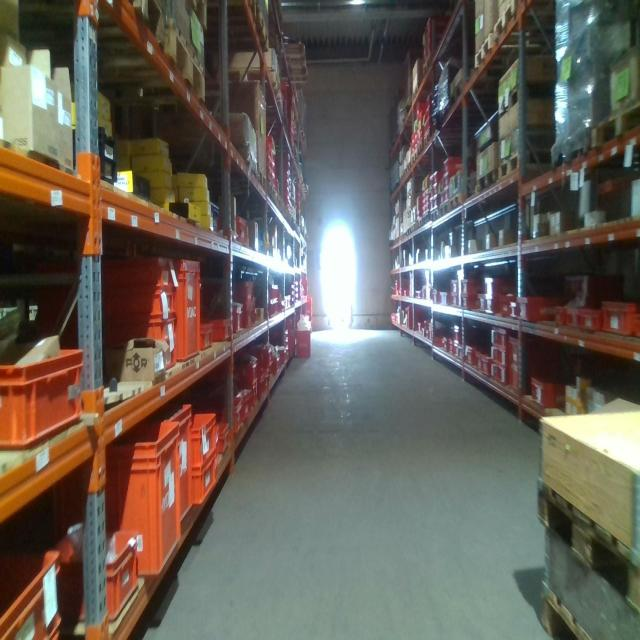pallet: (26, 22, 208, 110), (538, 477, 639, 617), (6, 3, 165, 49), (537, 576, 595, 638), (495, 78, 562, 120), (590, 96, 638, 151), (211, 14, 271, 54), (500, 144, 559, 181), (493, 1, 527, 44), (186, 2, 259, 14), (473, 32, 495, 71), (447, 78, 468, 112), (474, 167, 497, 198), (448, 188, 468, 212), (438, 198, 449, 222)
small_load_carrier: (62, 414, 178, 573), (0, 347, 83, 448), (60, 529, 136, 616), (1, 542, 61, 639), (90, 318, 173, 371), (167, 265, 201, 363), (88, 285, 173, 324), (87, 253, 174, 291), (168, 402, 190, 521), (531, 366, 579, 414), (194, 395, 239, 438), (188, 448, 220, 507), (505, 336, 532, 396), (602, 296, 634, 345), (191, 412, 220, 463), (214, 353, 257, 386), (518, 293, 566, 319), (218, 387, 252, 423), (220, 299, 243, 342), (245, 345, 274, 370), (225, 219, 247, 246), (207, 317, 231, 341), (583, 304, 605, 330), (234, 278, 256, 304), (218, 415, 231, 455), (486, 277, 518, 293), (491, 324, 508, 349), (241, 305, 255, 334), (569, 305, 585, 330), (555, 303, 571, 327), (491, 363, 509, 384), (298, 330, 311, 359), (491, 346, 509, 366), (484, 292, 500, 314), (472, 349, 486, 370), (443, 159, 462, 172), (461, 280, 480, 293), (202, 326, 211, 353), (462, 292, 477, 308), (481, 355, 491, 378), (500, 293, 509, 317), (511, 301, 521, 322), (465, 346, 476, 365), (249, 382, 257, 406), (477, 293, 486, 314), (633, 316, 639, 338)
